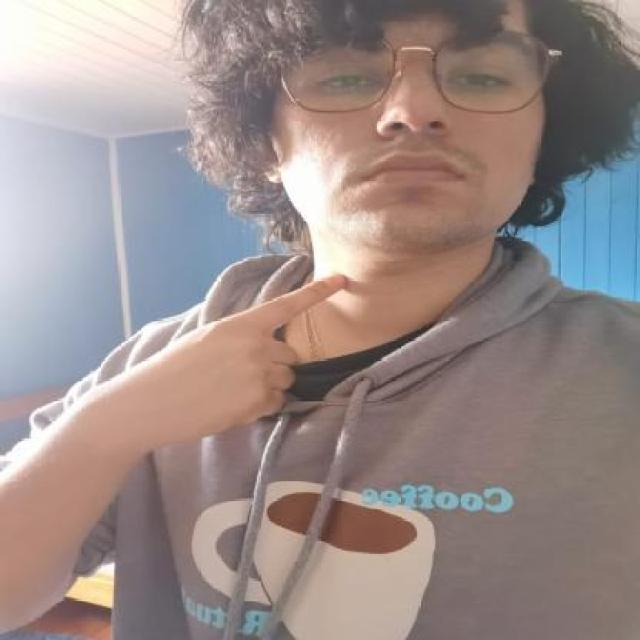Q: (84, 274, 351, 444)
